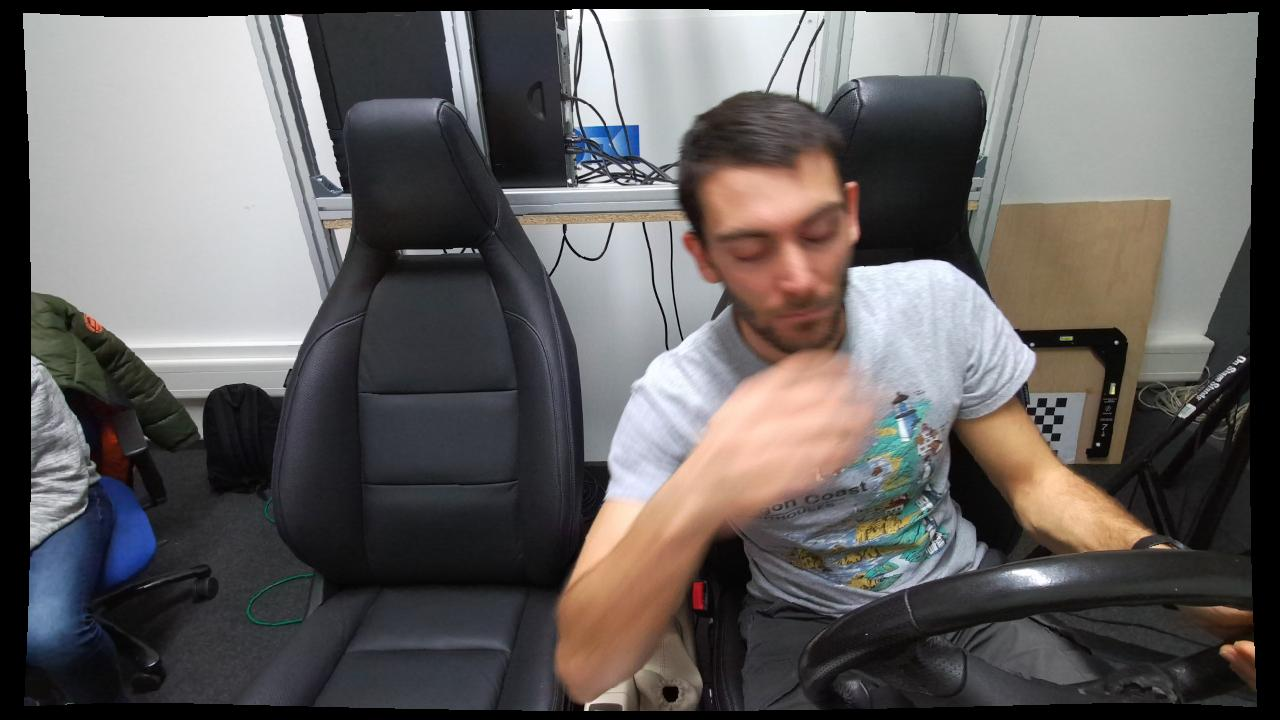Distracted: (543, 82, 1097, 717)
